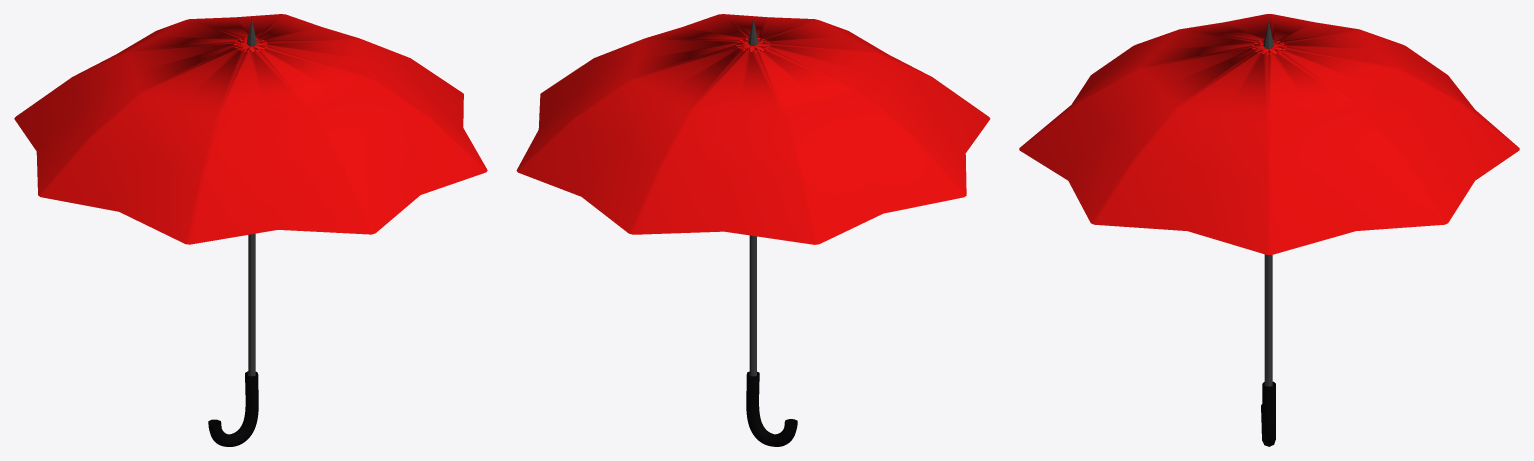
File: umbrella.glb
3 renders of one model, left to right at view 1: azimuth 30°, elevation 25°; view 2: azimuth 150°, elevation 25°; view 3: azimuth 270°, elevation 25°, orthographic. The views are drawn at different scales.
Visible parts, largest first — view 1: umbrella, handle, rod; view 2: umbrella, handle, rod; view 3: umbrella, rod, handle.
Part boxes in pixels (left/top/right/bottom): umbrella: left=14, top=14, right=487, bottom=244; handle: left=208, top=371, right=258, bottom=446; rod: left=246, top=19, right=256, bottom=376; umbrella: left=516, top=14, right=990, bottom=244; handle: left=746, top=371, right=797, bottom=446; rod: left=748, top=19, right=758, bottom=376; umbrella: left=1019, top=14, right=1519, bottom=254; rod: left=1263, top=21, right=1274, bottom=386; handle: left=1261, top=381, right=1275, bottom=446.
Bounding box in the file's own units: 7.1 × 6.78 × 7.1.
